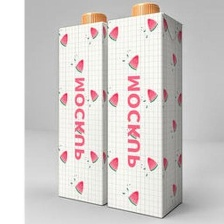carton: (105, 1, 186, 219), (54, 9, 110, 207)
